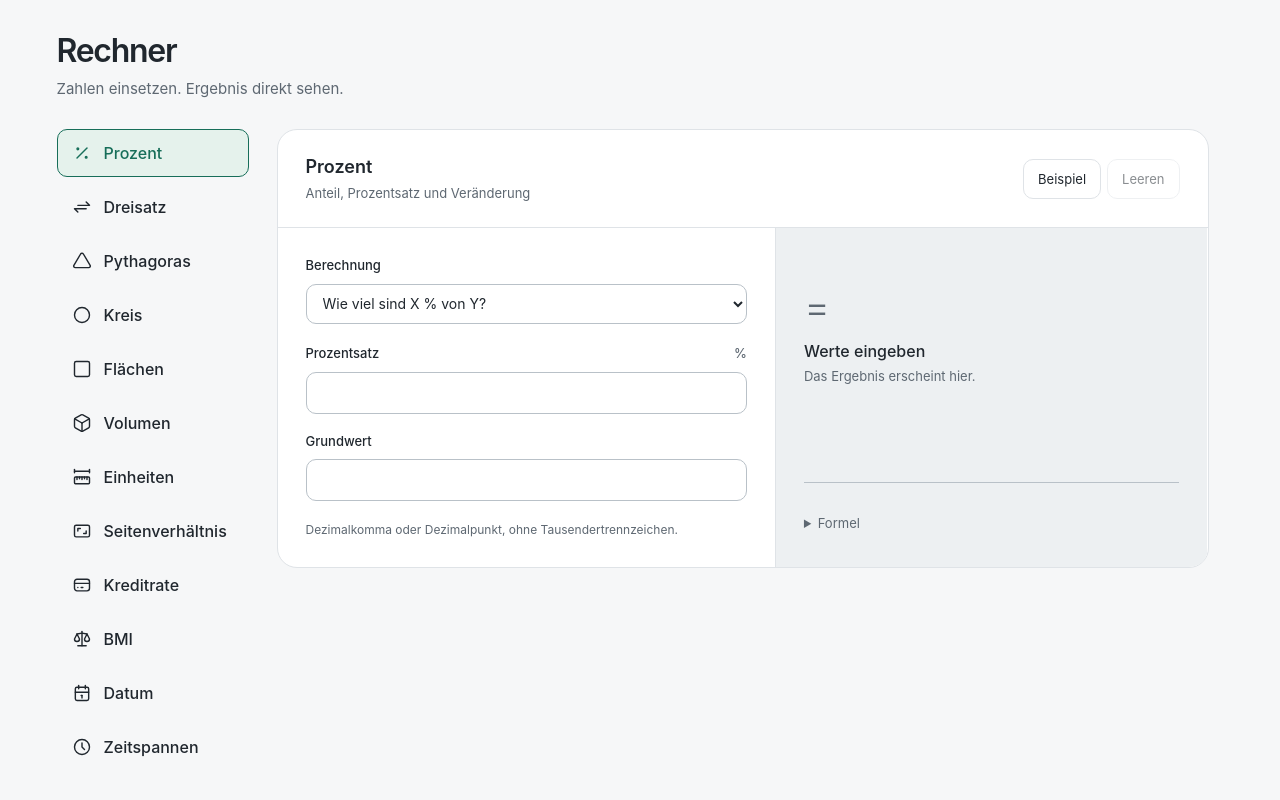
Test: calculator workspace › shows discount and surcharge fields, amounts and retained values
Select "Rabatt abziehen" in the dropdown labelled "Berechnung" at (526, 304), box [306, 284, 747, 324]
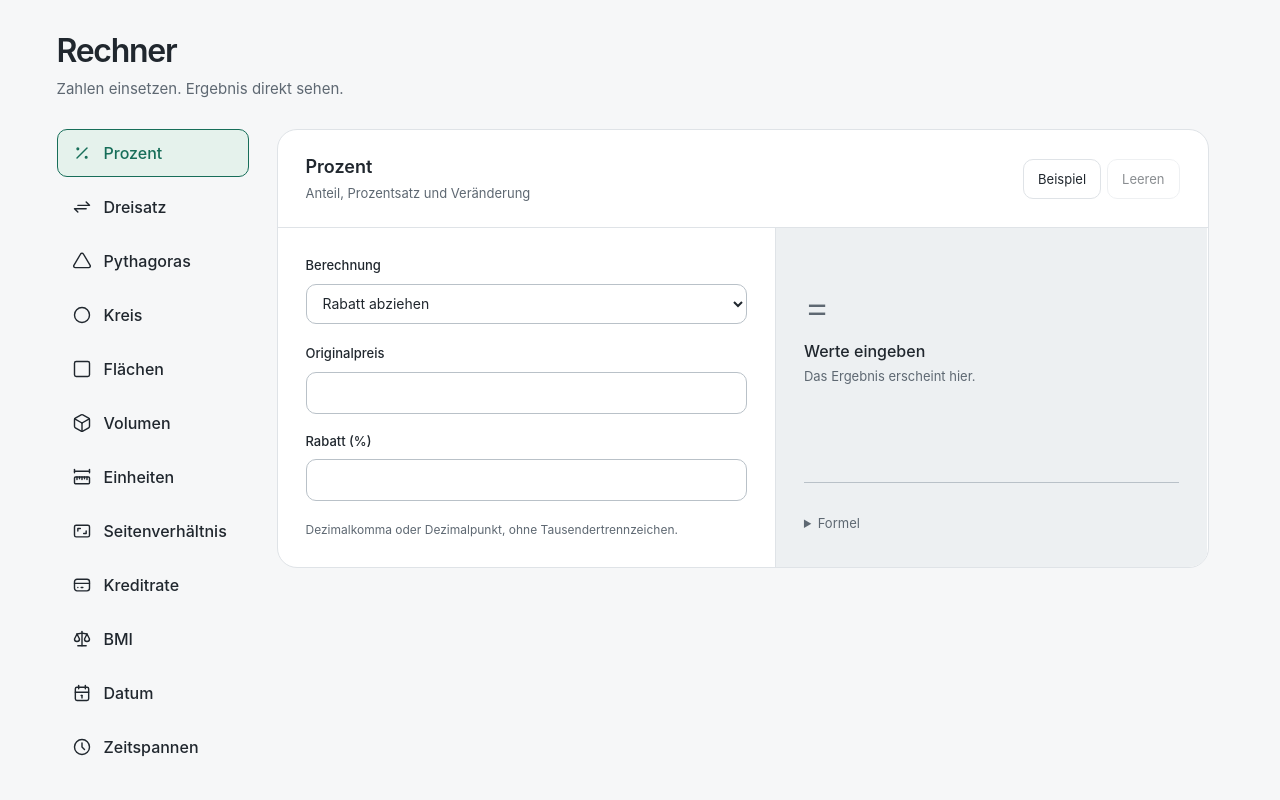
Type "120" into the field labelled "Originalpreis".
click(526, 393); type("120")  # box [306, 372, 747, 414]
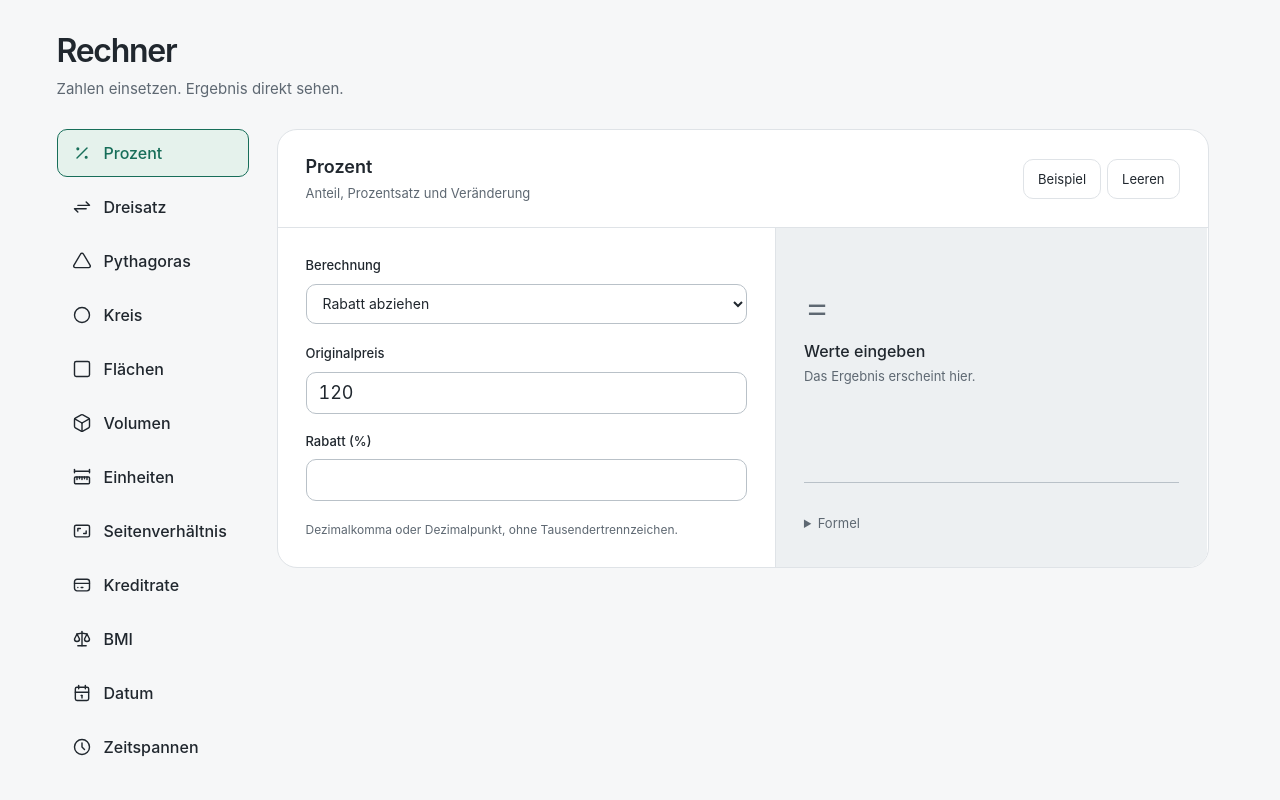
Type "20" into the field labelled "Rabatt (%)".
click(526, 480); type("20")  # box [306, 459, 747, 502]
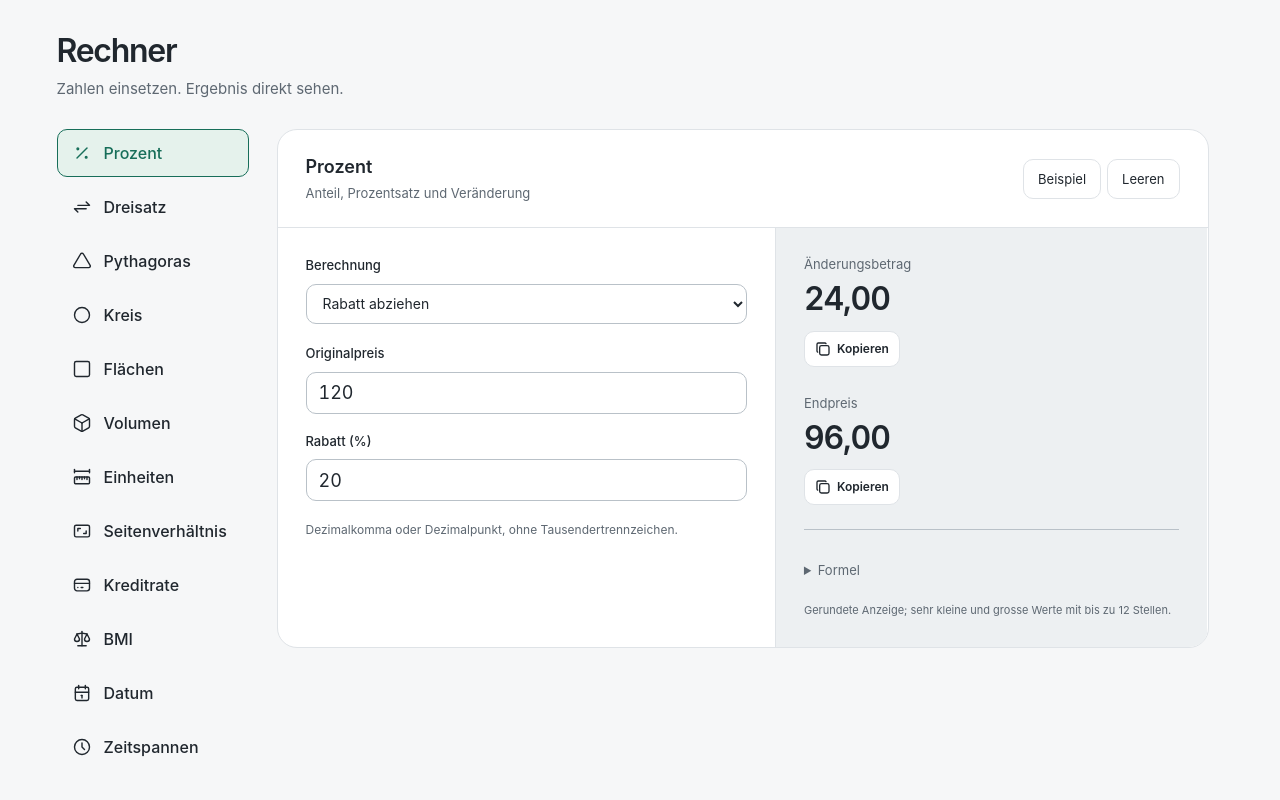
Now the text with test id "result-changeAmount" reads "24,00", box [804, 279, 890, 318]
Now the text with test id "result-finalPrice" reads "96,00", box [804, 418, 890, 457]
Select "Aufschlag addieren" in the dropdown labelled "Berechnung" at (526, 304), box [306, 284, 747, 324]
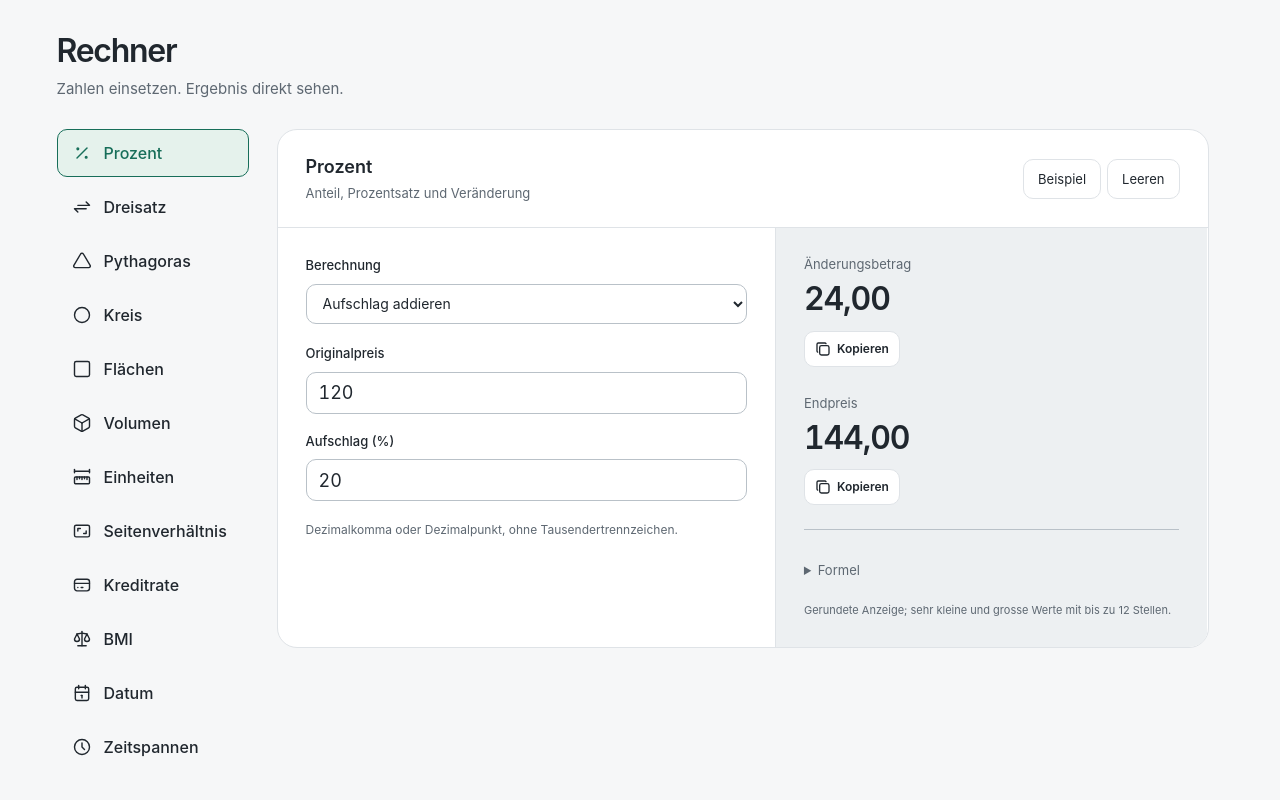
Now the text with test id "result-changeAmount" reads "24,00", box [804, 279, 890, 318]
Now the text with test id "result-finalPrice" reads "144,00", box [804, 418, 909, 457]
